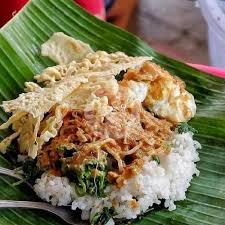Nasi pecel: (7, 37, 202, 220)
